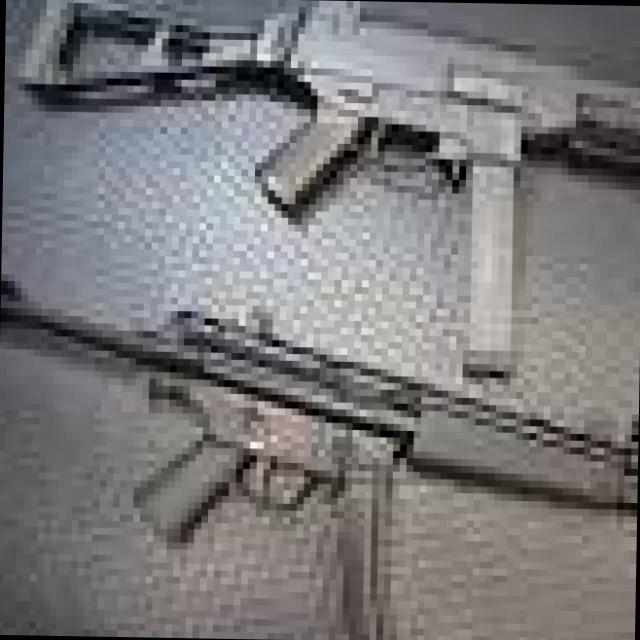Gun: (0, 225, 640, 640), (0, 0, 640, 373)
